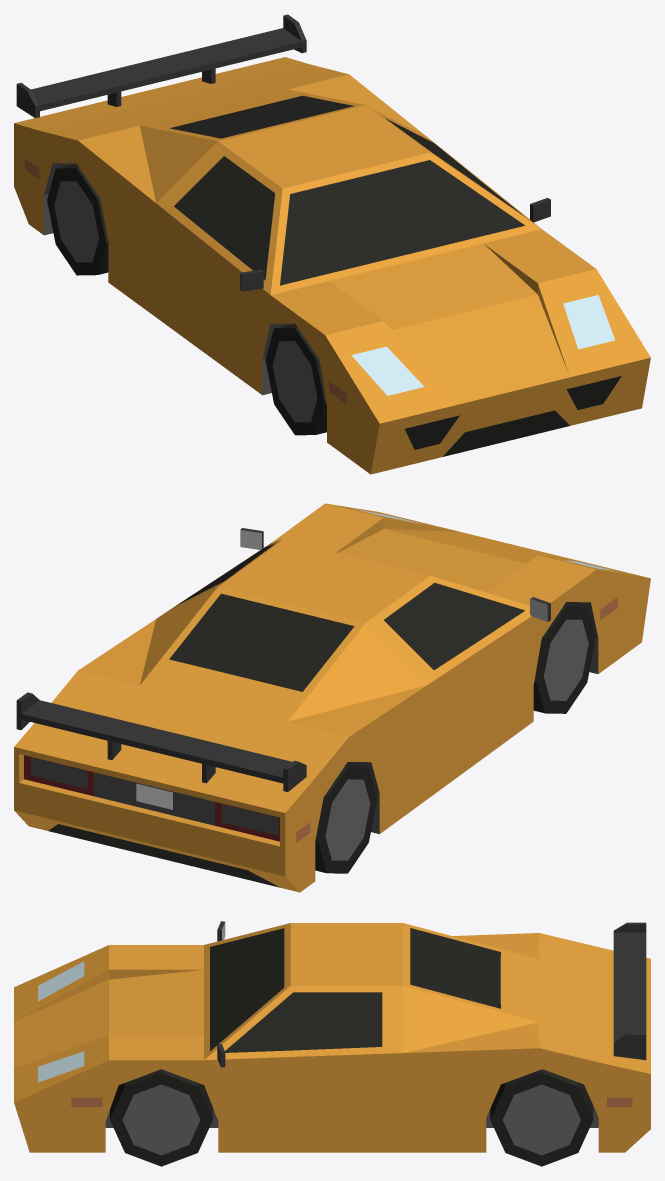
The model's file is Veh_Sports_Car_03_Yellow.obj.
3 views of the same model, one above another, from view 1: azimuth 30°, elevation 25°; view 2: azimuth 150°, elevation 25°; view 3: azimuth 270°, elevation 25° (orthographic). The views are drawn at different scales.
Size of the model in its own units: 1.25 by 0.6867 by 2.56.
